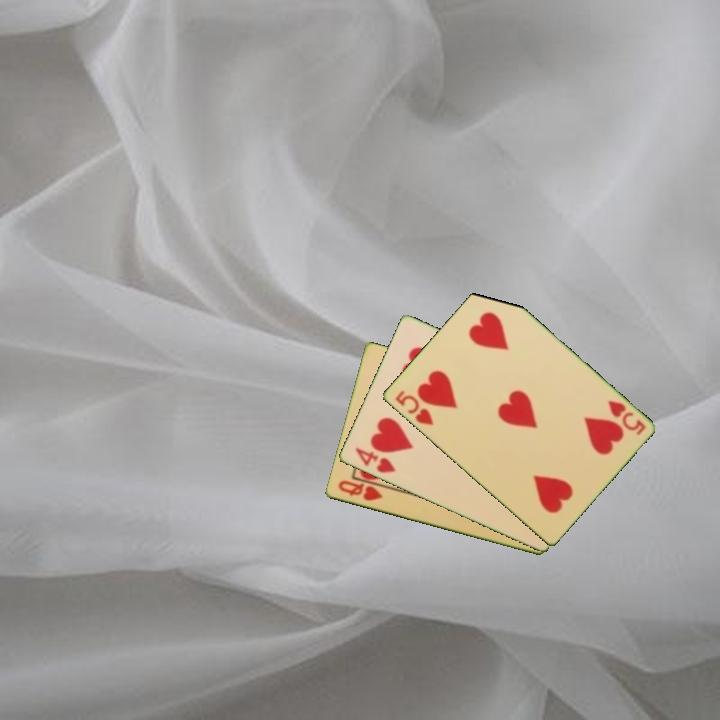4h: (352, 444, 398, 476)
5h: (391, 387, 436, 428), (604, 397, 648, 438)
Qh: (334, 477, 385, 504)
